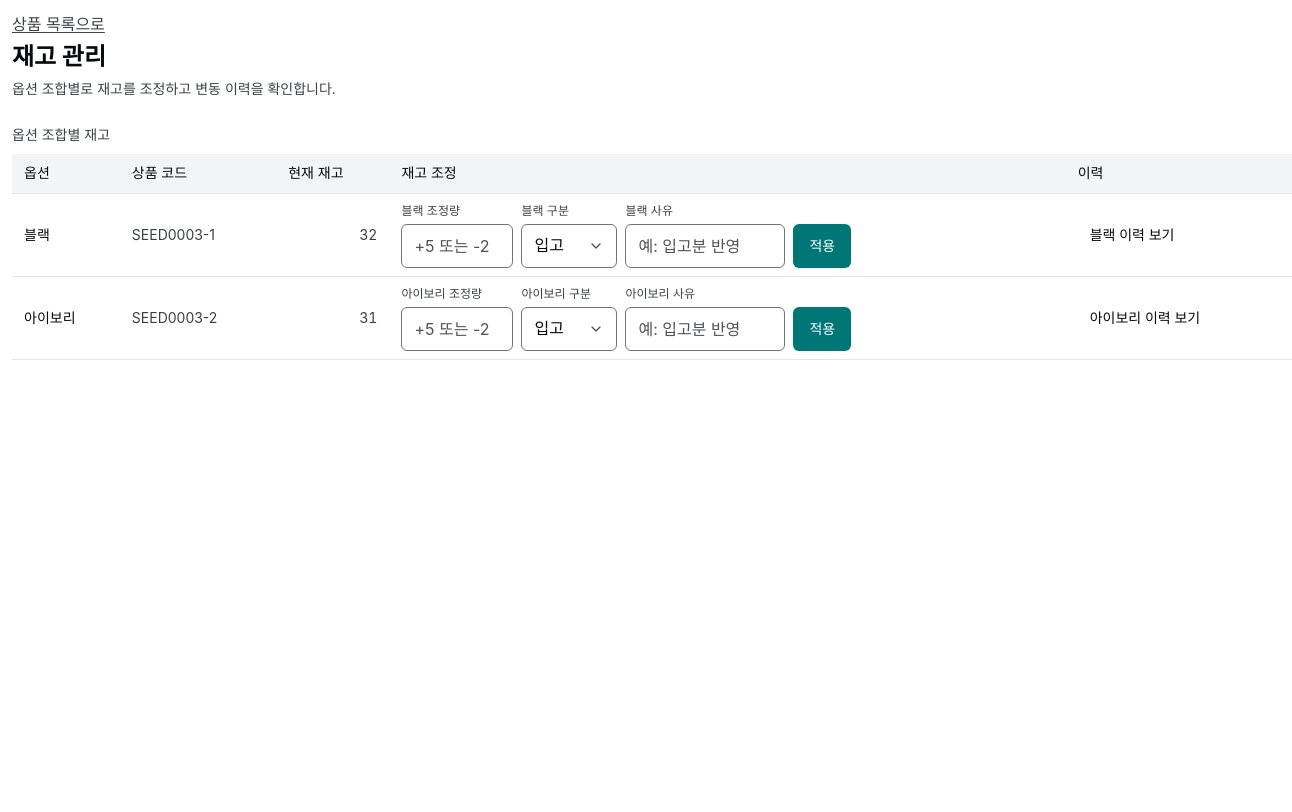
Test case: F2 · R1 — adjusting › applies the delta and shows the balance the server answered with
In the field labelled "블랙 조정량": (457, 246) [401,224,513,268], type "+5"
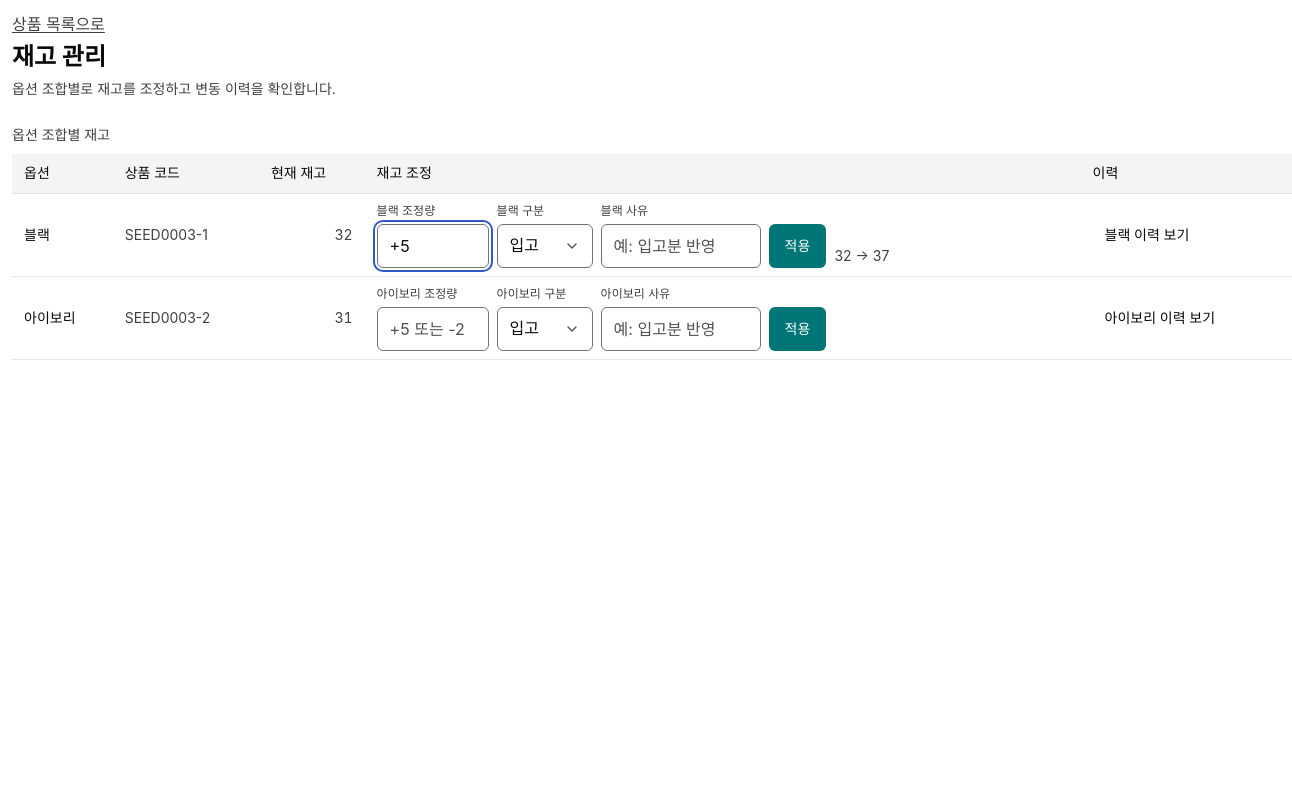
Click the button "적용" next to "32 → 37": (798, 246) [769,224,826,268]
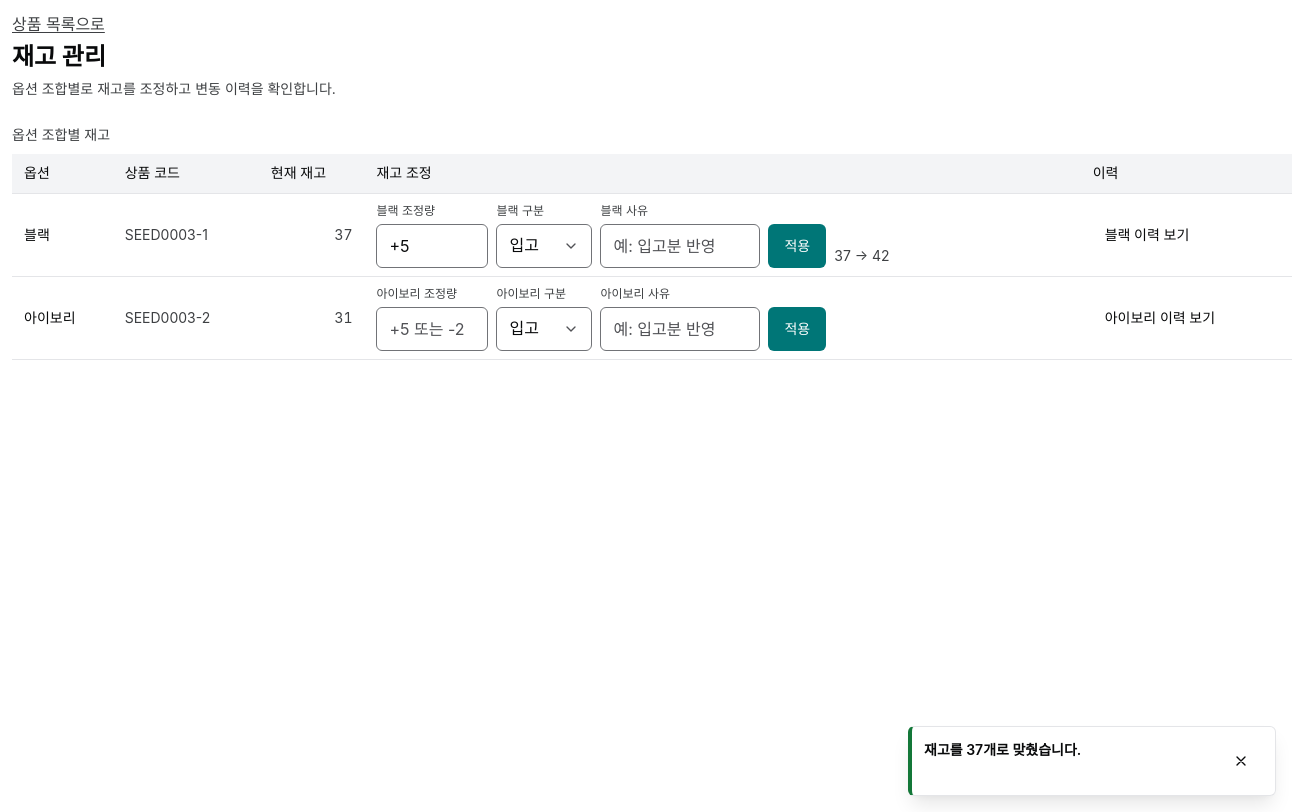
expect the text "37" is shown: met, box [334,226,352,243]
